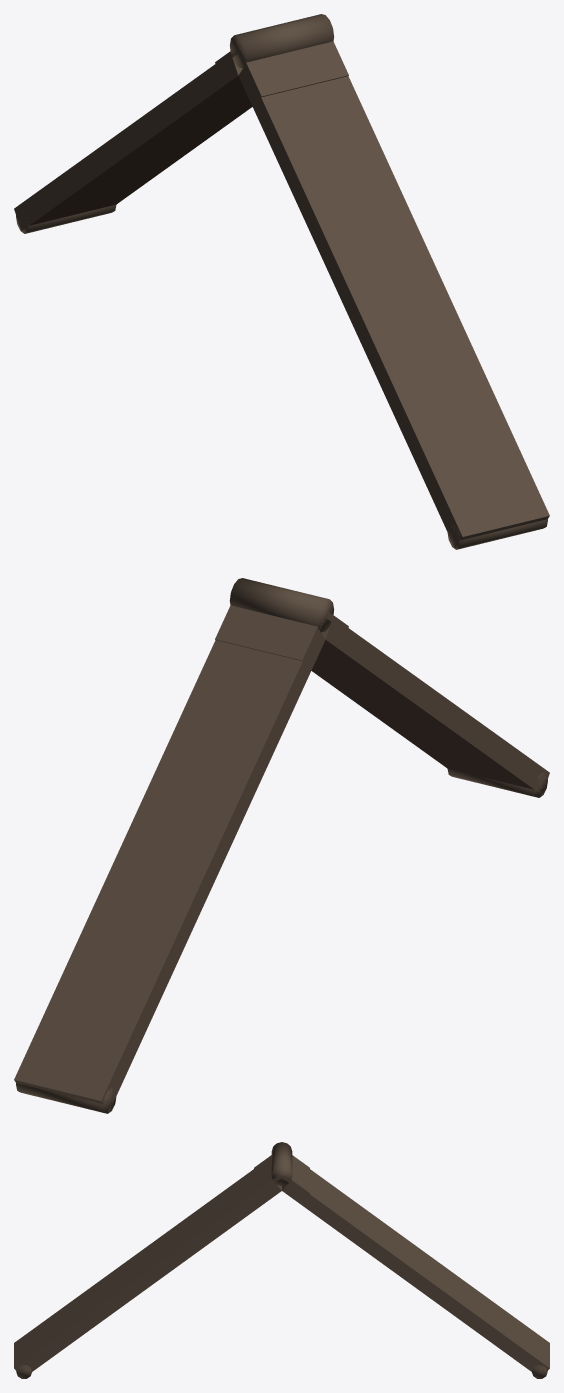
Rendered from kit_timber_thatch_w8.glb.
3 views of the same model, one above another, from view 1: azimuth 30°, elevation 25°; view 2: azimuth 150°, elevation 25°; view 3: azimuth 270°, elevation 25° (orthographic). The views are drawn at different scales.
Parts seen in each view (by area): view 1: kit_timber_thatch_w8; view 2: kit_timber_thatch_w8; view 3: kit_timber_thatch_w8.
Part boxes in pixels (x1,y1,x2,y2): kit_timber_thatch_w8: (14, 14, 549, 549); kit_timber_thatch_w8: (14, 578, 549, 1113); kit_timber_thatch_w8: (14, 1142, 549, 1378).
Size of the model in its own units: 1 by 3.88 by 8.9.
